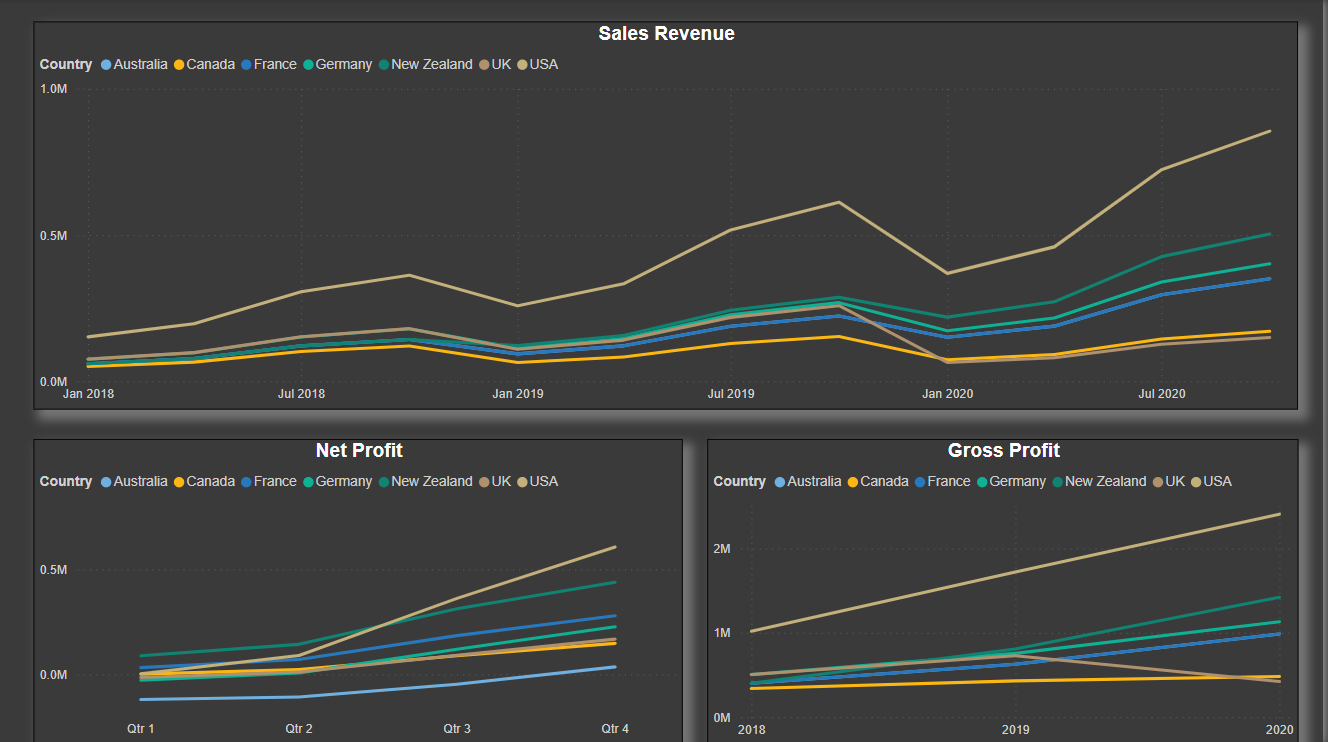

What the dashboard file says about the page in this screenshot:
{"tool":"powerbi","page":{"name":"Crosscountry","canvas":[1280,720],"ordinal":2},"visuals":[{"type":"lineChart","title":"Sales Revenue","fields":{"Category":["tbl_Calendar.Date.Variation.Date Hierarchy.Year","tbl_Calendar.Date.Variation.Date Hierarchy.Quarter","tbl_Calendar.Date.Variation.Date Hierarchy.Month","tbl_Calendar.Date.Variation.Date Hierarchy.Day"],"Y":["All Measures.Total sales by Sales"],"Series":["tbl_territory.Country"]},"box":[35.6,21.9,1220.2,374.3],"z":0},{"type":"lineChart","title":"Gross Profit","fields":{"Y":["All Measures.Total sales by Sales"],"Series":["tbl_territory.Country"],"Category":["tbl_Calendar.Date.Variation.Date Hierarchy.Year","tbl_Calendar.Date.Variation.Date Hierarchy.Quarter","tbl_Calendar.Date.Variation.Date Hierarchy.Month","tbl_Calendar.Date.Variation.Date Hierarchy.Day"]},"box":[686.2,424.5,570.5,295.5],"z":1000},{"type":"lineChart","title":"Net Profit","fields":{"Category":["tbl_Calendar.Date.Variation.Date Hierarchy.Year","tbl_Calendar.Date.Variation.Date Hierarchy.Quarter","tbl_Calendar.Date.Variation.Date Hierarchy.Month","tbl_Calendar.Date.Variation.Date Hierarchy.Day"],"Y":["All Measures.Total Amount"],"Series":["tbl_territory.Country"]},"box":[35.6,425,626.6,294.8],"z":2000}]}

Visuals, with their boxes in screenshot pixels (x1, y1, x2, y2), scaled from the page's 1280x720 canvas onto the 1328x742 screenshot:
"Sales Revenue" lineChart: region(37, 23, 1303, 408)
"Gross Profit" lineChart: region(712, 437, 1304, 741)
"Net Profit" lineChart: region(37, 438, 687, 741)
